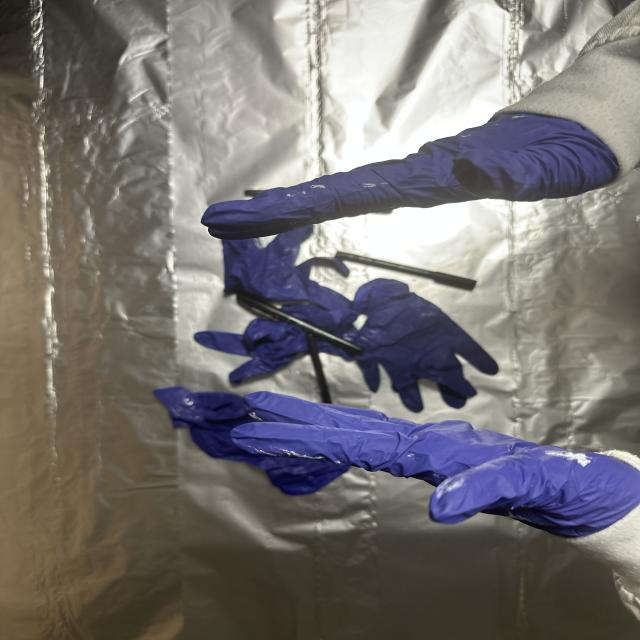gloves_contaminated: (231, 392, 640, 542), (203, 114, 619, 239)
